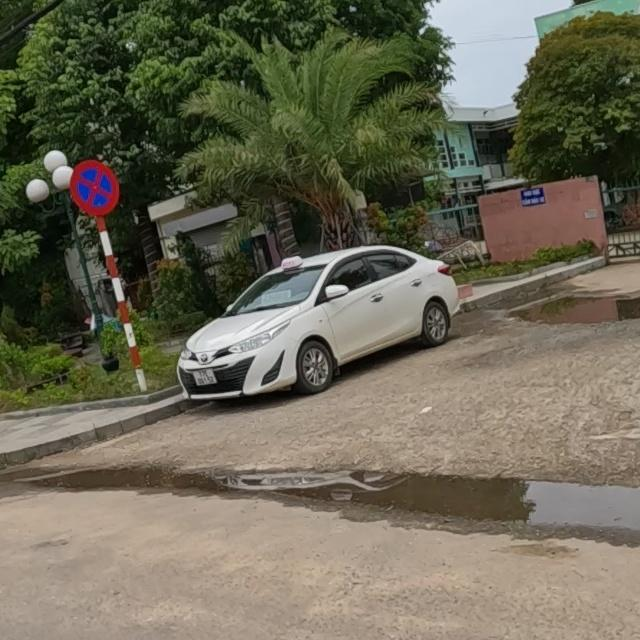license-plate: (192, 368, 218, 387)
